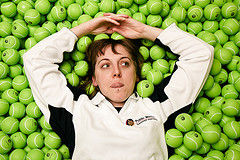tennis ball: (200, 123, 223, 145), (174, 111, 196, 133), (183, 130, 205, 151), (18, 115, 39, 136), (165, 127, 185, 149), (135, 78, 156, 98), (10, 74, 30, 93), (221, 17, 240, 37), (24, 101, 46, 118), (152, 56, 171, 75), (75, 35, 94, 54), (220, 1, 240, 19), (215, 46, 233, 66), (1, 48, 21, 66), (203, 105, 223, 123), (42, 132, 63, 149), (221, 98, 240, 116), (204, 2, 222, 21), (17, 87, 36, 105), (221, 83, 239, 102), (50, 4, 68, 22), (186, 5, 205, 22), (223, 120, 240, 139), (199, 31, 218, 48), (24, 9, 42, 26), (11, 22, 29, 39), (1, 1, 18, 19), (134, 45, 152, 62), (66, 3, 83, 20), (73, 60, 89, 78), (35, 1, 54, 16), (1, 133, 14, 154), (83, 1, 100, 17), (170, 6, 187, 22), (149, 43, 166, 59), (200, 74, 215, 92), (99, 1, 119, 14), (63, 74, 80, 89), (147, 1, 164, 15), (145, 15, 163, 27), (34, 28, 50, 41), (1, 97, 10, 117)
